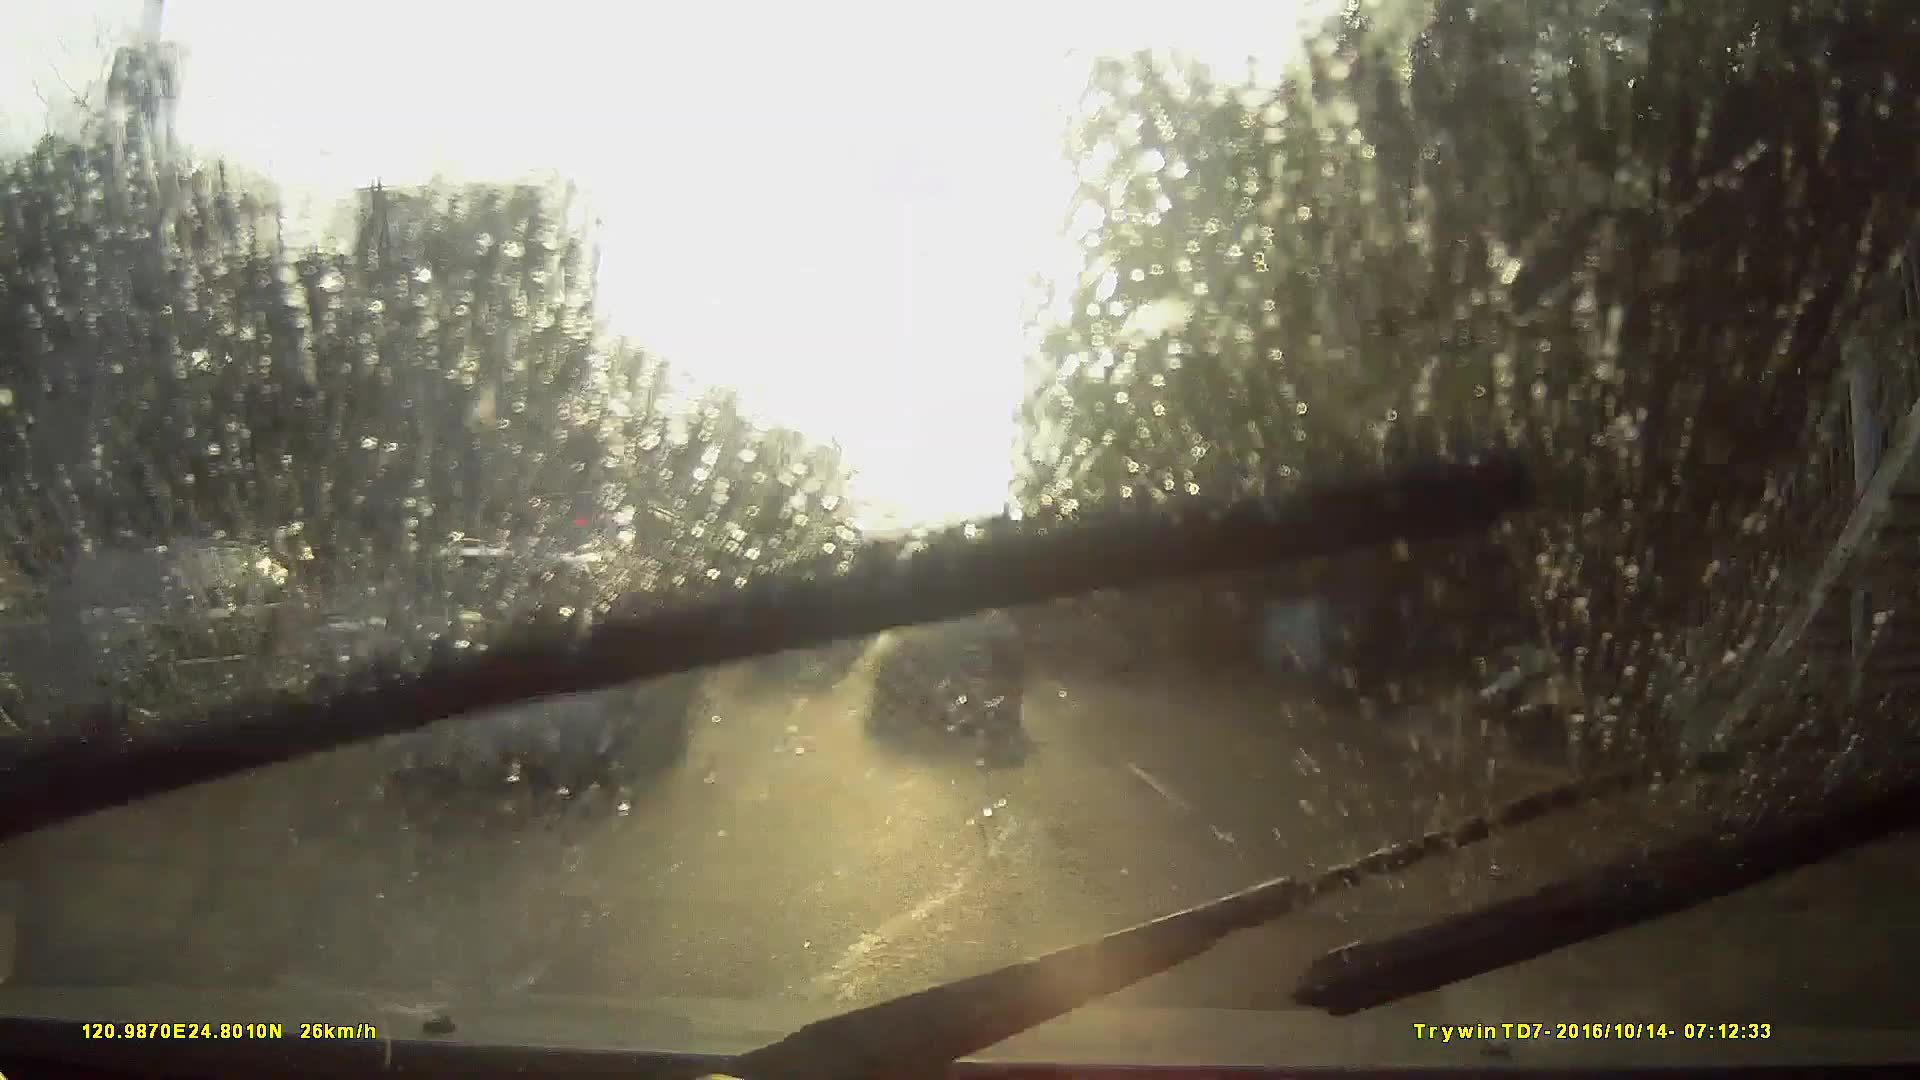vehicle: (251, 556, 684, 868), (381, 545, 696, 793), (491, 491, 721, 666), (865, 595, 1023, 758), (996, 556, 1101, 682), (735, 609, 845, 694), (866, 638, 915, 687)
